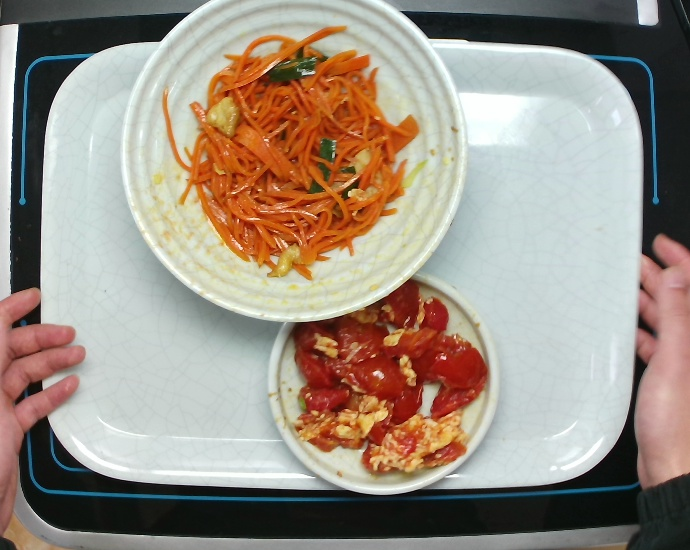JYsf-Da_Tang_Wan: (115, 1, 470, 324)
JYsf-Xiao_Yuan_Pan: (263, 268, 502, 496)
